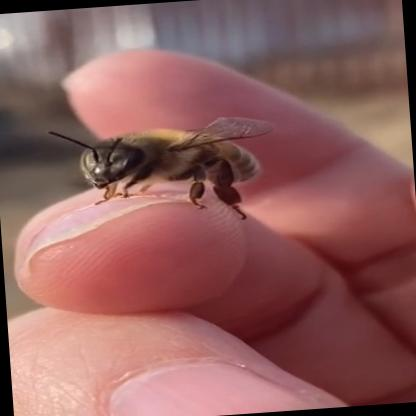bee: (28, 80, 312, 244)
